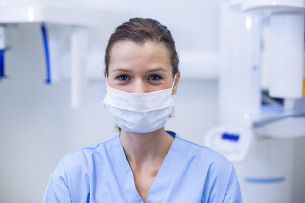face_mask: (105, 50, 170, 134)
